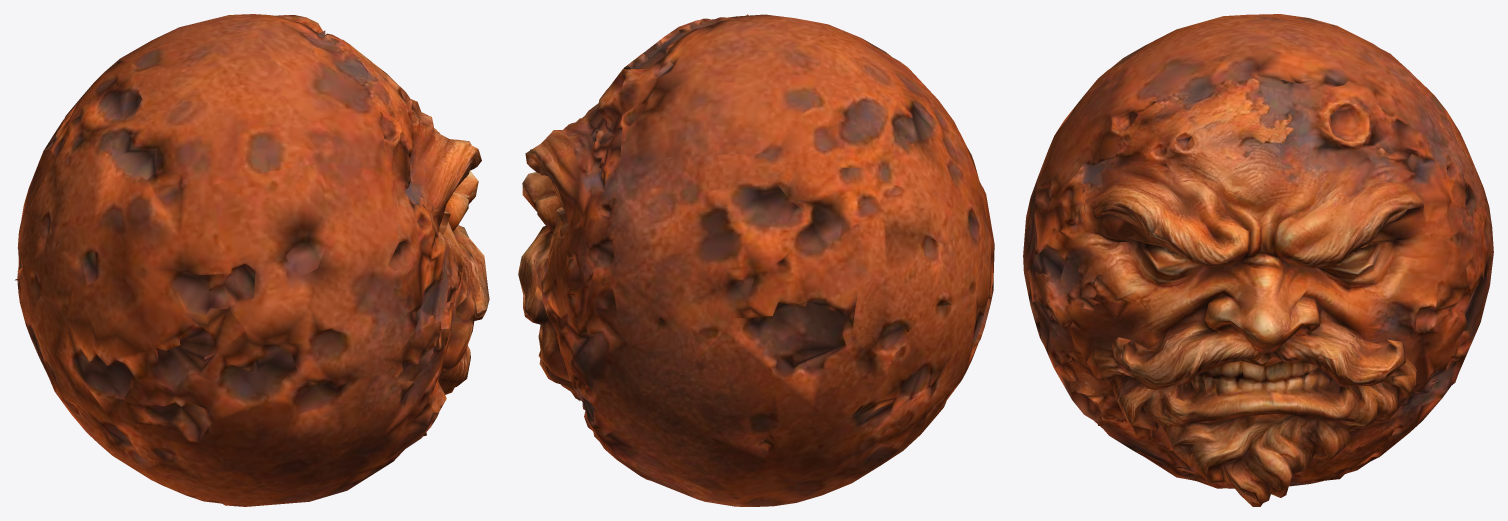
Rendered from I-mars.glb.
The picture shows the model from 3 angles, left to right: view 1: azimuth 30°, elevation 25°; view 2: azimuth 150°, elevation 25°; view 3: azimuth 270°, elevation 25°; orthographic projection. The views are drawn at different scales.
Visible parts, largest first — view 1: tripo_node_2203b161-c5c3-4660-a18d-4d63054ea8ea; view 2: tripo_node_2203b161-c5c3-4660-a18d-4d63054ea8ea; view 3: tripo_node_2203b161-c5c3-4660-a18d-4d63054ea8ea.
Part boxes in pixels (bbox=[...]): tripo_node_2203b161-c5c3-4660-a18d-4d63054ea8ea: bbox=[15, 14, 489, 506]; tripo_node_2203b161-c5c3-4660-a18d-4d63054ea8ea: bbox=[518, 14, 994, 506]; tripo_node_2203b161-c5c3-4660-a18d-4d63054ea8ea: bbox=[1023, 14, 1493, 506].
Size of the model in its own units: 0.9797 by 0.9756 by 0.9486.
Materials: 1 (1 with a texture image).
